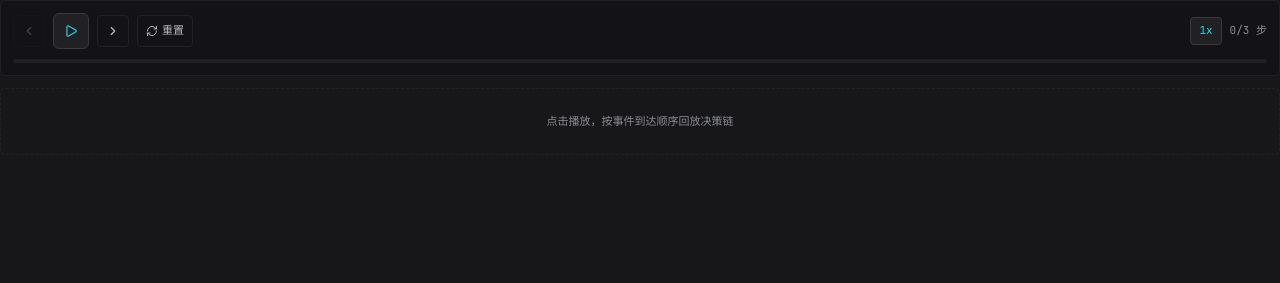
StepPlayer › 上一步可回退
Click the button named "下一步".
click(113, 31)  # box [97,15,129,47]
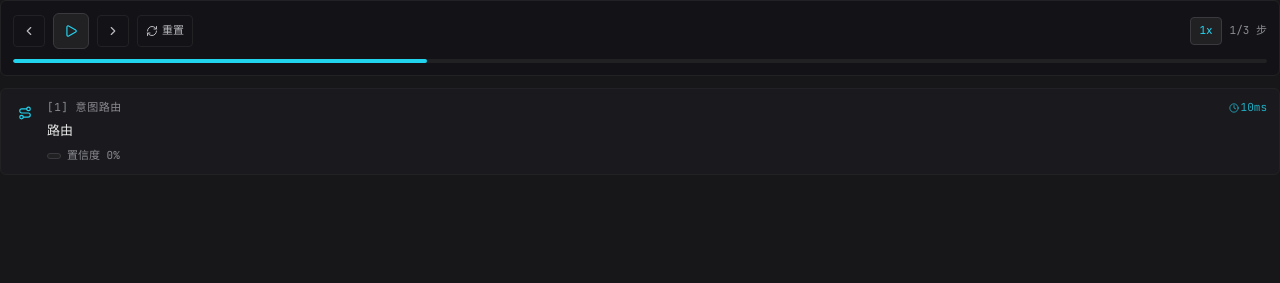
Click the button named "下一步".
click(113, 31)  # box [97,15,129,47]
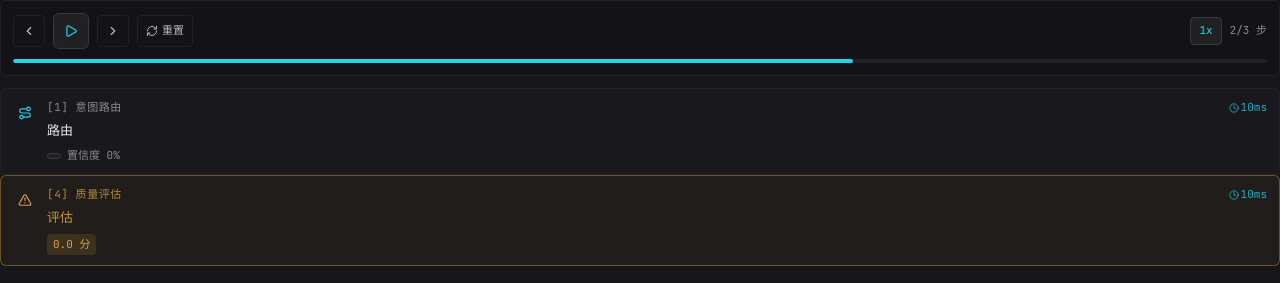
Click the button named "上一步".
click(29, 31)  # box [13,15,45,47]
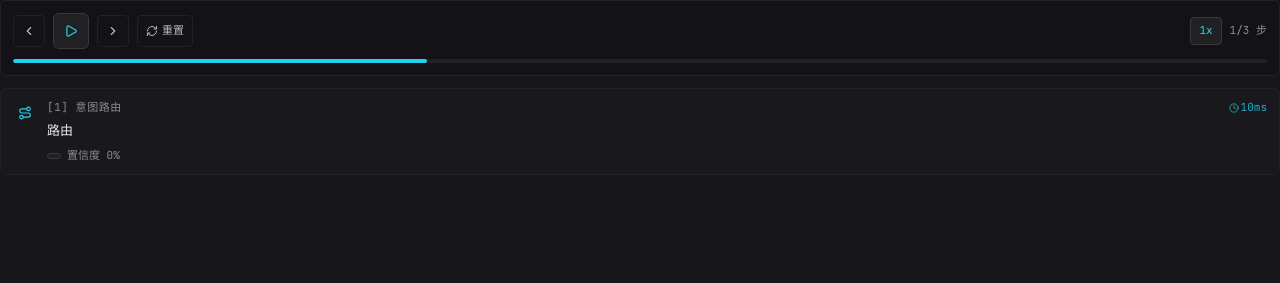
Check: the text "路由" is shown, box [47,99,122,116]
Check: the text "评估" is gone
